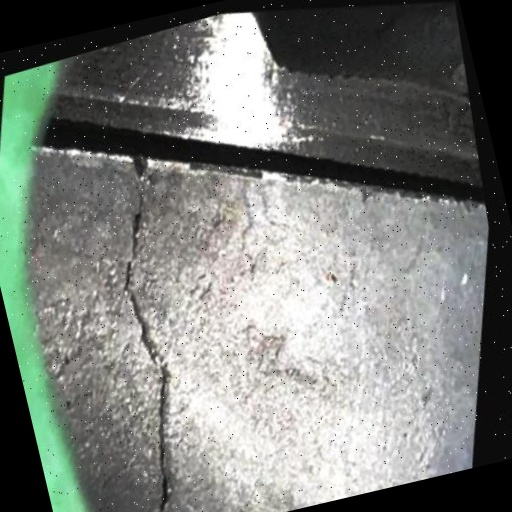crack: (0, 192, 371, 512), (0, 206, 373, 512)
